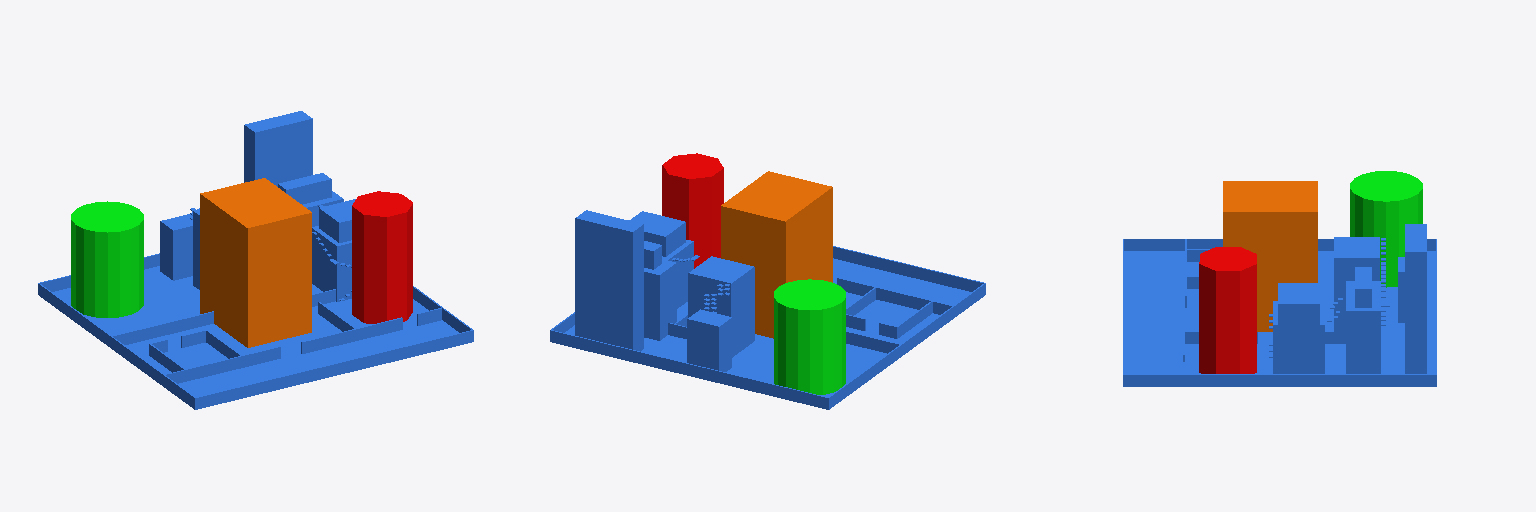
The model's file is level_02.obj.
3 renders of one model, left to right at view 1: azimuth 30°, elevation 25°; view 2: azimuth 150°, elevation 25°; view 3: azimuth 270°, elevation 25°, orthographic.
Visible parts, largest first — view 1: Base_Platform; view 2: Base_Platform; view 3: Base_Platform.
Part boxes in pixels (bbox=[...]): Base_Platform: bbox=[38, 111, 473, 409]; Base_Platform: bbox=[550, 153, 985, 409]; Base_Platform: bbox=[1123, 171, 1436, 386].
Bounding box in the file's own units: 135 × 57.9 × 132.